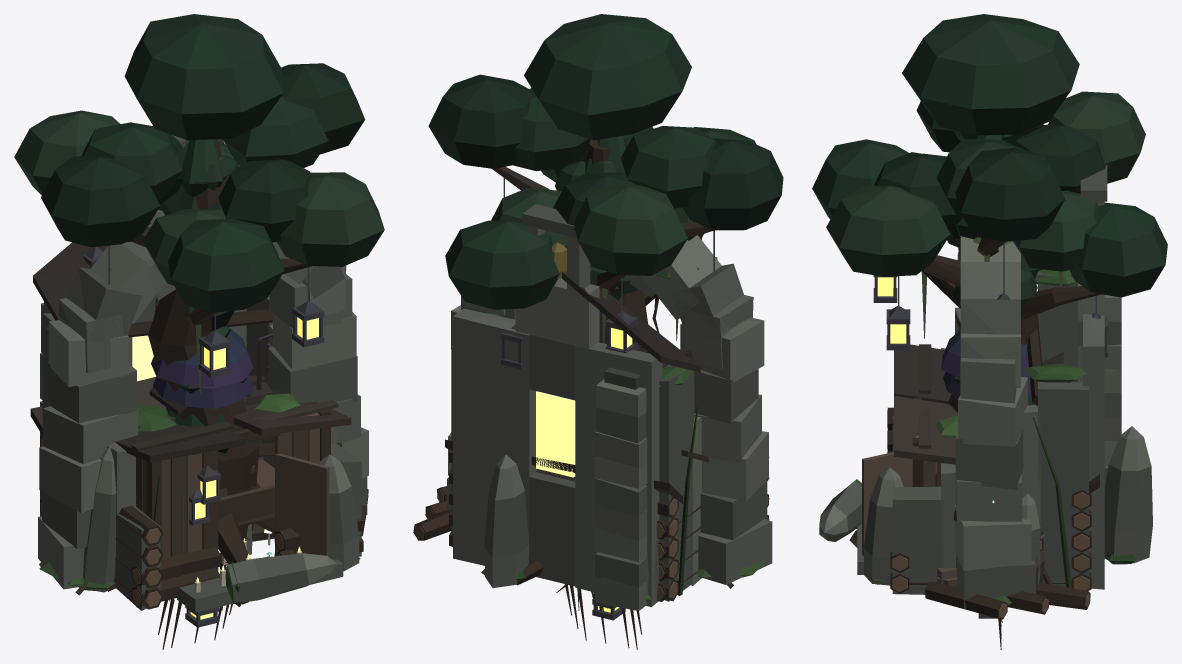
File: darkforest.glb
The picture shows the model from 3 angles, left to right: view 1: azimuth 30°, elevation 25°; view 2: azimuth 150°, elevation 25°; view 3: azimuth 270°, elevation 25°; orthographic projection.
Visible parts, largest first — view 1: darkforest_lantern_tree_a, darkforest_mossy_arch_a, darkforest_abandoned_shed_a, darkforest_forest_chapel_a, darkforest_stone_circle_a, darkforest_collapsed_cabin_a, darkforest_overgrown_wagon_a, darkforest_dark_fir_tree_a, darkforest_giant_glowshroom_b, darkforest_giant_glowshroom_a, darkforest_woodcutter_camp_a, darkforest_gnarled_tree_b (+1 smaller); view 2: darkforest_lantern_tree_a, darkforest_forest_chapel_a, darkforest_mossy_arch_a, darkforest_collapsed_cabin_a, darkforest_stone_circle_a, darkforest_gnarled_tree_b, darkforest_dark_fir_tree_a, darkforest_root_drape_b; view 3: darkforest_lantern_tree_a, darkforest_forest_chapel_a, darkforest_mossy_arch_a, darkforest_stone_circle_a, darkforest_collapsed_cabin_a, darkforest_abandoned_shed_a, darkforest_giant_glowshroom_b, darkforest_gnarled_tree_a.
Boxes of the visible parts, x1,y1,x2,y2 form: darkforest_lantern_tree_a: (14,14,384,604); darkforest_mossy_arch_a: (38,223,368,589); darkforest_abandoned_shed_a: (115,375,351,572); darkforest_forest_chapel_a: (33,135,361,612); darkforest_stone_circle_a: (77,446,360,606); darkforest_collapsed_cabin_a: (30,303,368,609); darkforest_overgrown_wagon_a: (39,333,274,595); darkforest_dark_fir_tree_a: (167,139,234,453); darkforest_giant_glowshroom_b: (151,326,253,387); darkforest_giant_glowshroom_a: (152,375,253,409); darkforest_woodcutter_camp_a: (136,377,255,553); darkforest_gnarled_tree_b: (194,155,238,209); darkforest_lantern_tree_a: (428,14,783,585); darkforest_forest_chapel_a: (451,204,701,606); darkforest_mossy_arch_a: (447,235,772,584); darkforest_collapsed_cabin_a: (413,367,769,610); darkforest_stone_circle_a: (481,454,658,601); darkforest_gnarled_tree_b: (555,154,621,300); darkforest_dark_fir_tree_a: (597,136,625,172); darkforest_root_drape_b: (556,584,637,649); darkforest_lantern_tree_a: (812,14,1167,528); darkforest_forest_chapel_a: (857,165,1107,594); darkforest_mossy_arch_a: (953,236,1035,608); darkforest_stone_circle_a: (819,426,1152,585); darkforest_collapsed_cabin_a: (887,283,1121,619); darkforest_abandoned_shed_a: (862,344,1077,586); darkforest_giant_glowshroom_b: (941,332,1028,378); darkforest_gnarled_tree_a: (947,218,1037,311).
Bounding box in the file's own units: 3.15 × 5.65 × 2.94.
